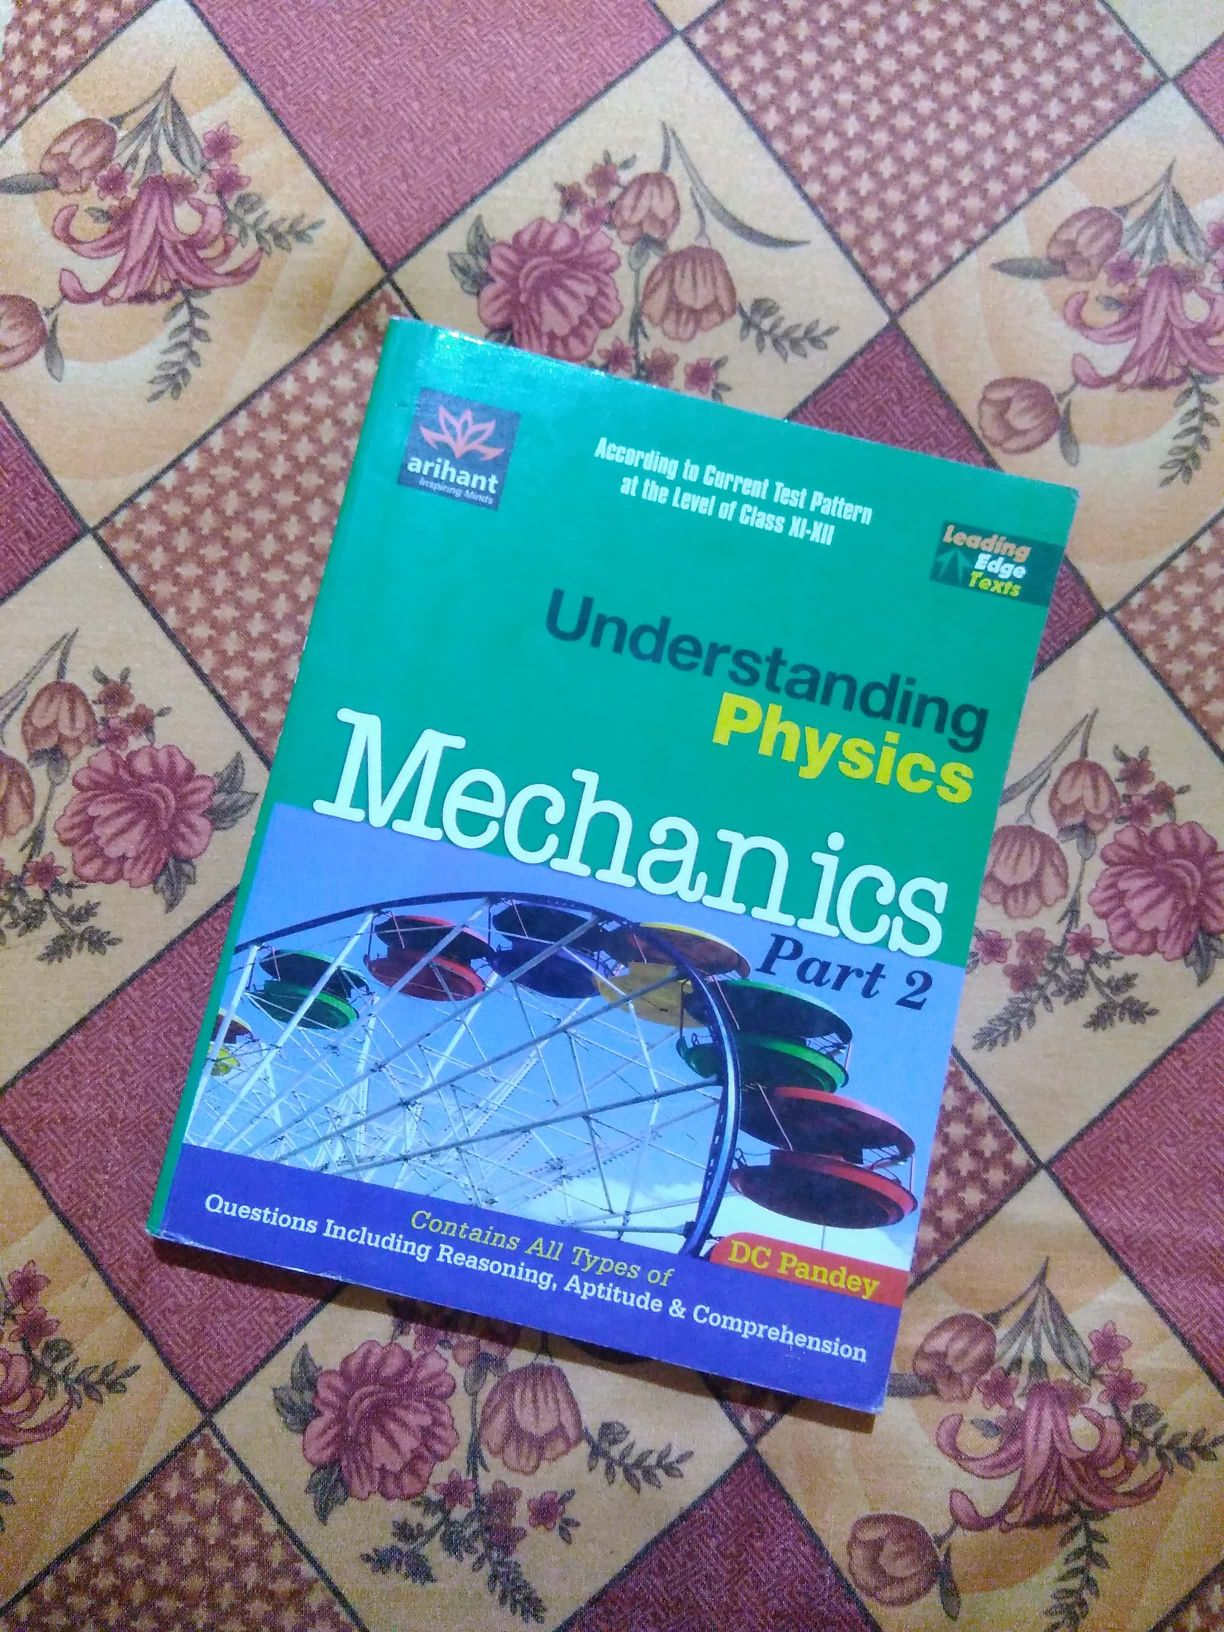mechanics: (207, 323, 1077, 1439)
